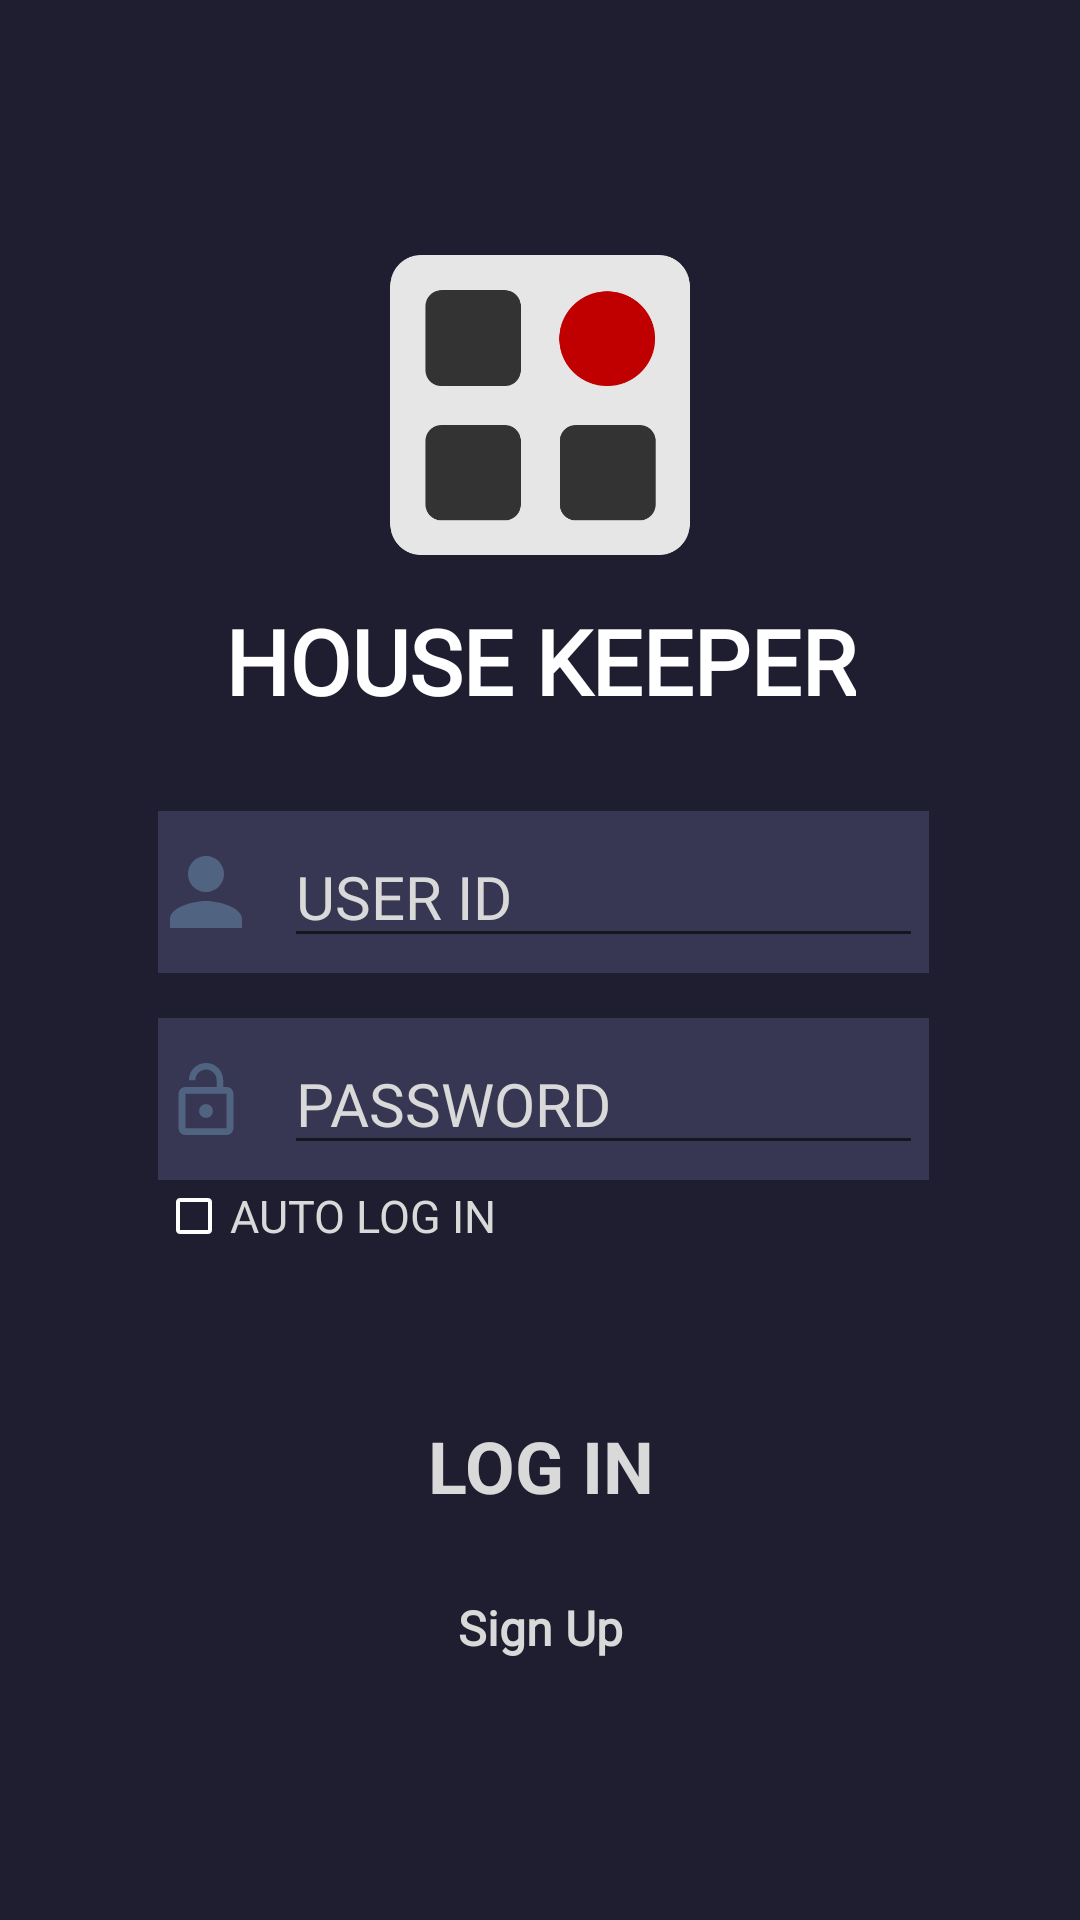

Icons on this 1080px×1920px Android screen, each with its box as (x1, y1, x2, y2):
app: (390, 255, 690, 555)
login: (170, 856, 242, 928)
